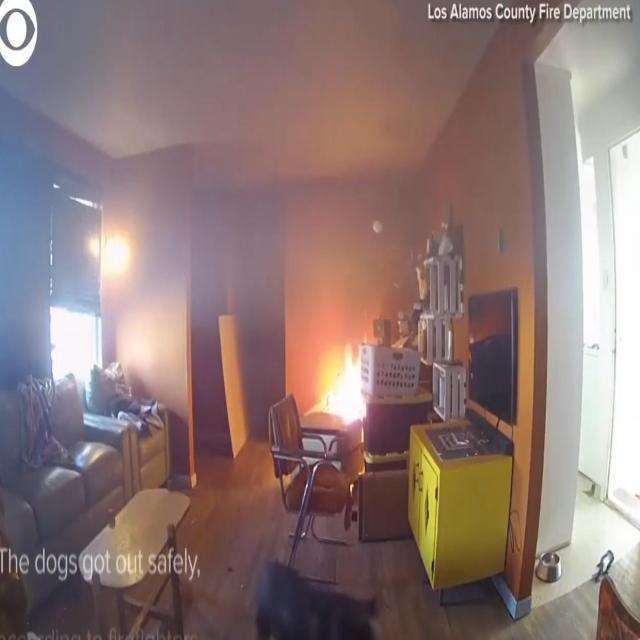smoke: (320, 341, 368, 424)
